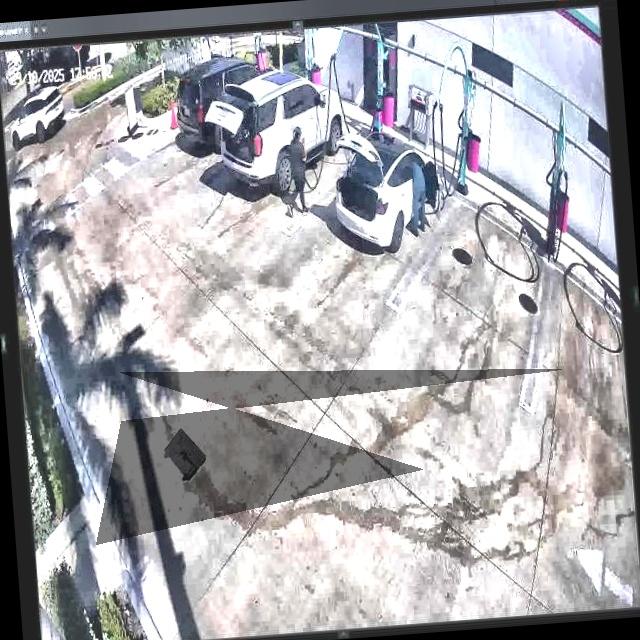Car: (213, 72, 347, 192), (331, 122, 444, 249), (174, 58, 284, 166)
